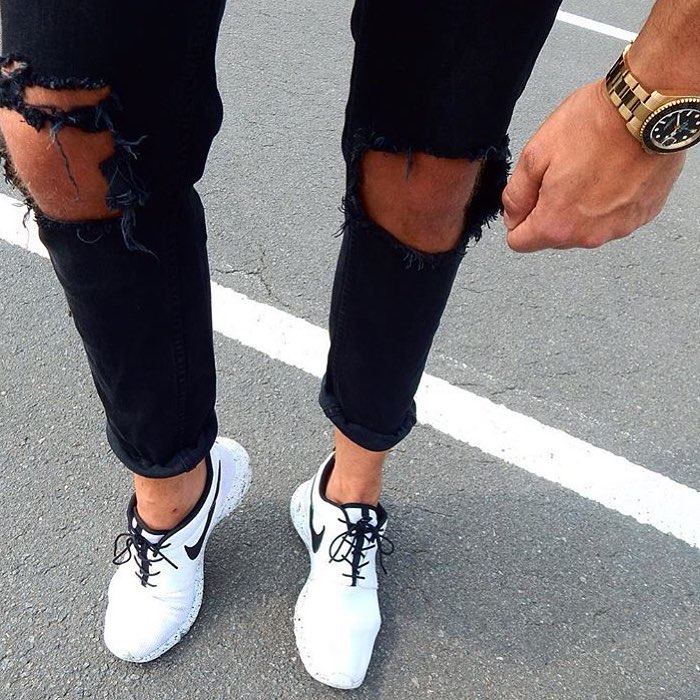sneaker: (79, 421, 265, 684), (273, 435, 412, 699)
